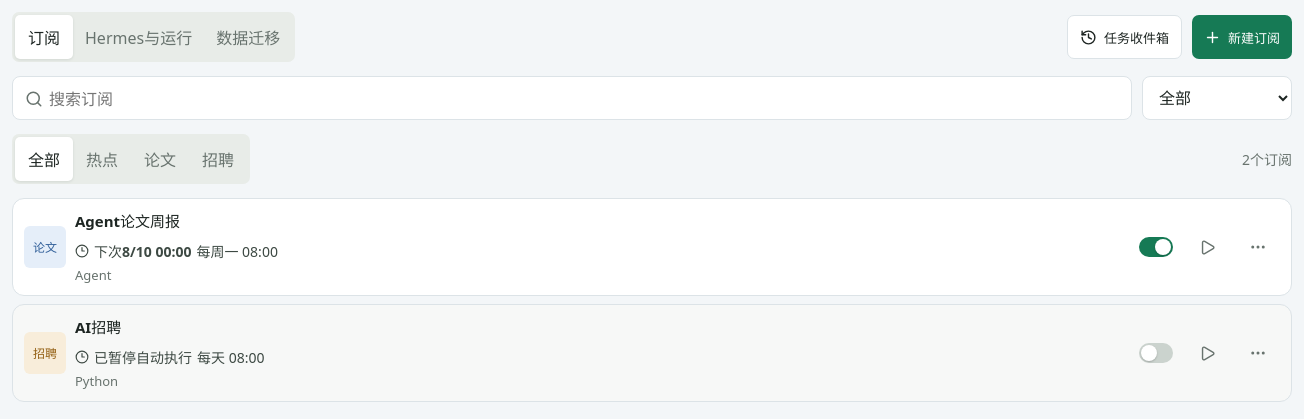
Test: 搜索筛选订阅并展示下次执行时间
The image size is (1304, 419).
expect the text "下次8/10 00:00" is shown: met, box [94,241,192,261]
Type "Python" into the search field labelled "搜索订阅" at (567, 99), box [47,77,1087,121]
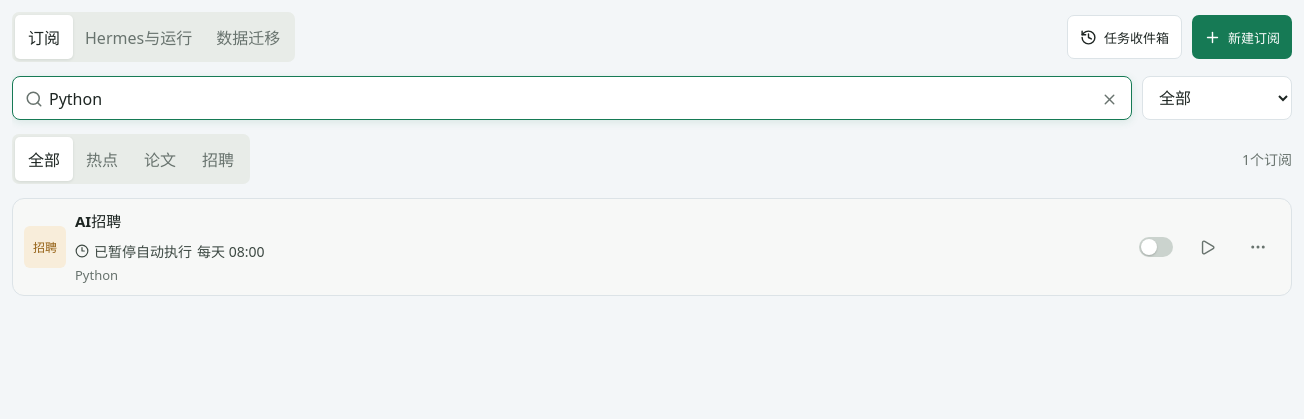
expect the heading "AI招聘" is shown: met, box [75,211,121,231]
expect the heading "Agent论文周报" is gone: met
expect the text "1个订阅" is shown: met, box [1242,149,1292,169]
